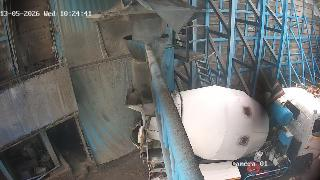cement_mixer_truck: (125, 86, 320, 180)
swing_chute: (124, 35, 171, 98)
